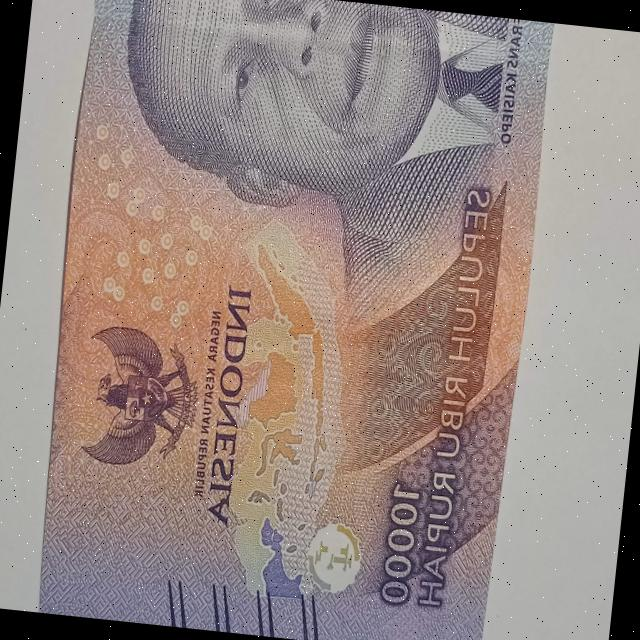10K: (15, 0, 560, 640)
